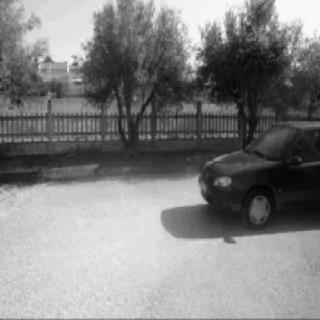other: (195, 115, 312, 231)
